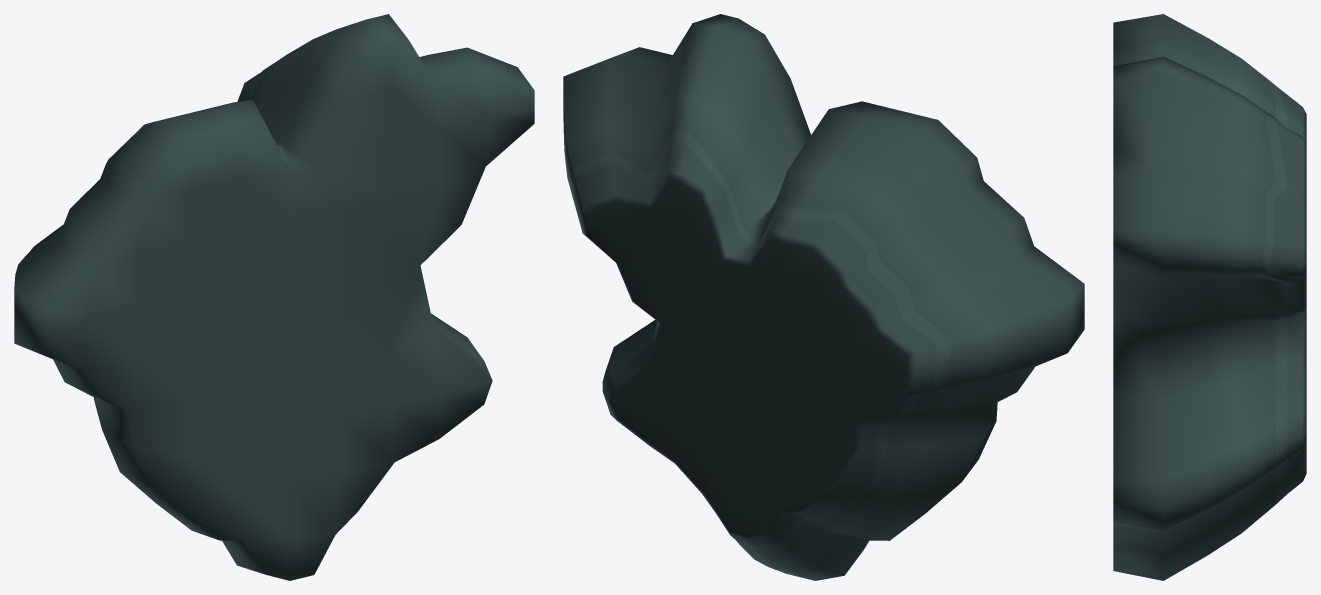
The model's file is AlienPlateuMedium.glb.
3 views of the same model, side by side, from view 1: azimuth 30°, elevation 25°; view 2: azimuth 150°, elevation 25°; view 3: azimuth 270°, elevation 25° (orthographic). The views are drawn at different scales.
Parts seen in each view (by area): view 1: AlienPlateuMedium; view 2: AlienPlateuMedium; view 3: AlienPlateuMedium.
Boxes of the visible parts, bbox=[...] form: AlienPlateuMedium: bbox=[14, 14, 534, 580]; AlienPlateuMedium: bbox=[563, 14, 1084, 580]; AlienPlateuMedium: bbox=[1113, 14, 1306, 580].
Bounding box in the file's own units: 6896 × 6896 × 2177.
